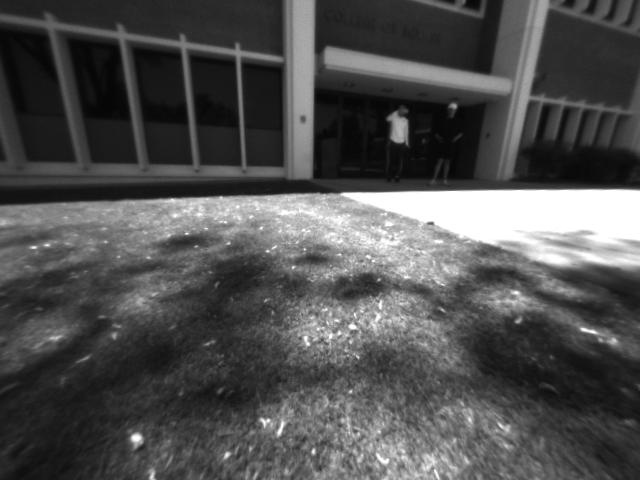dogtoy: (417, 210, 445, 233)
